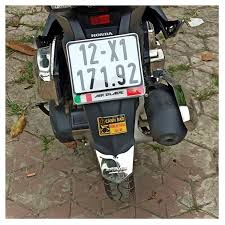Bien-so: (67, 33, 145, 96)
